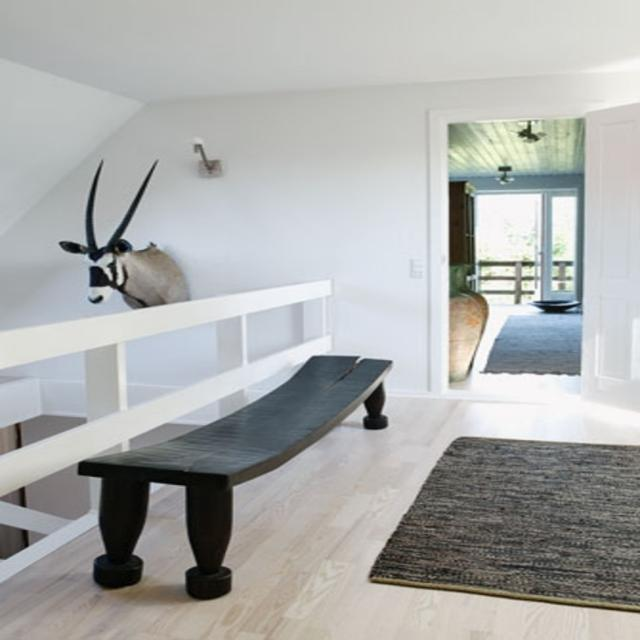Bulb: (512, 118, 544, 143), (493, 170, 514, 189)
